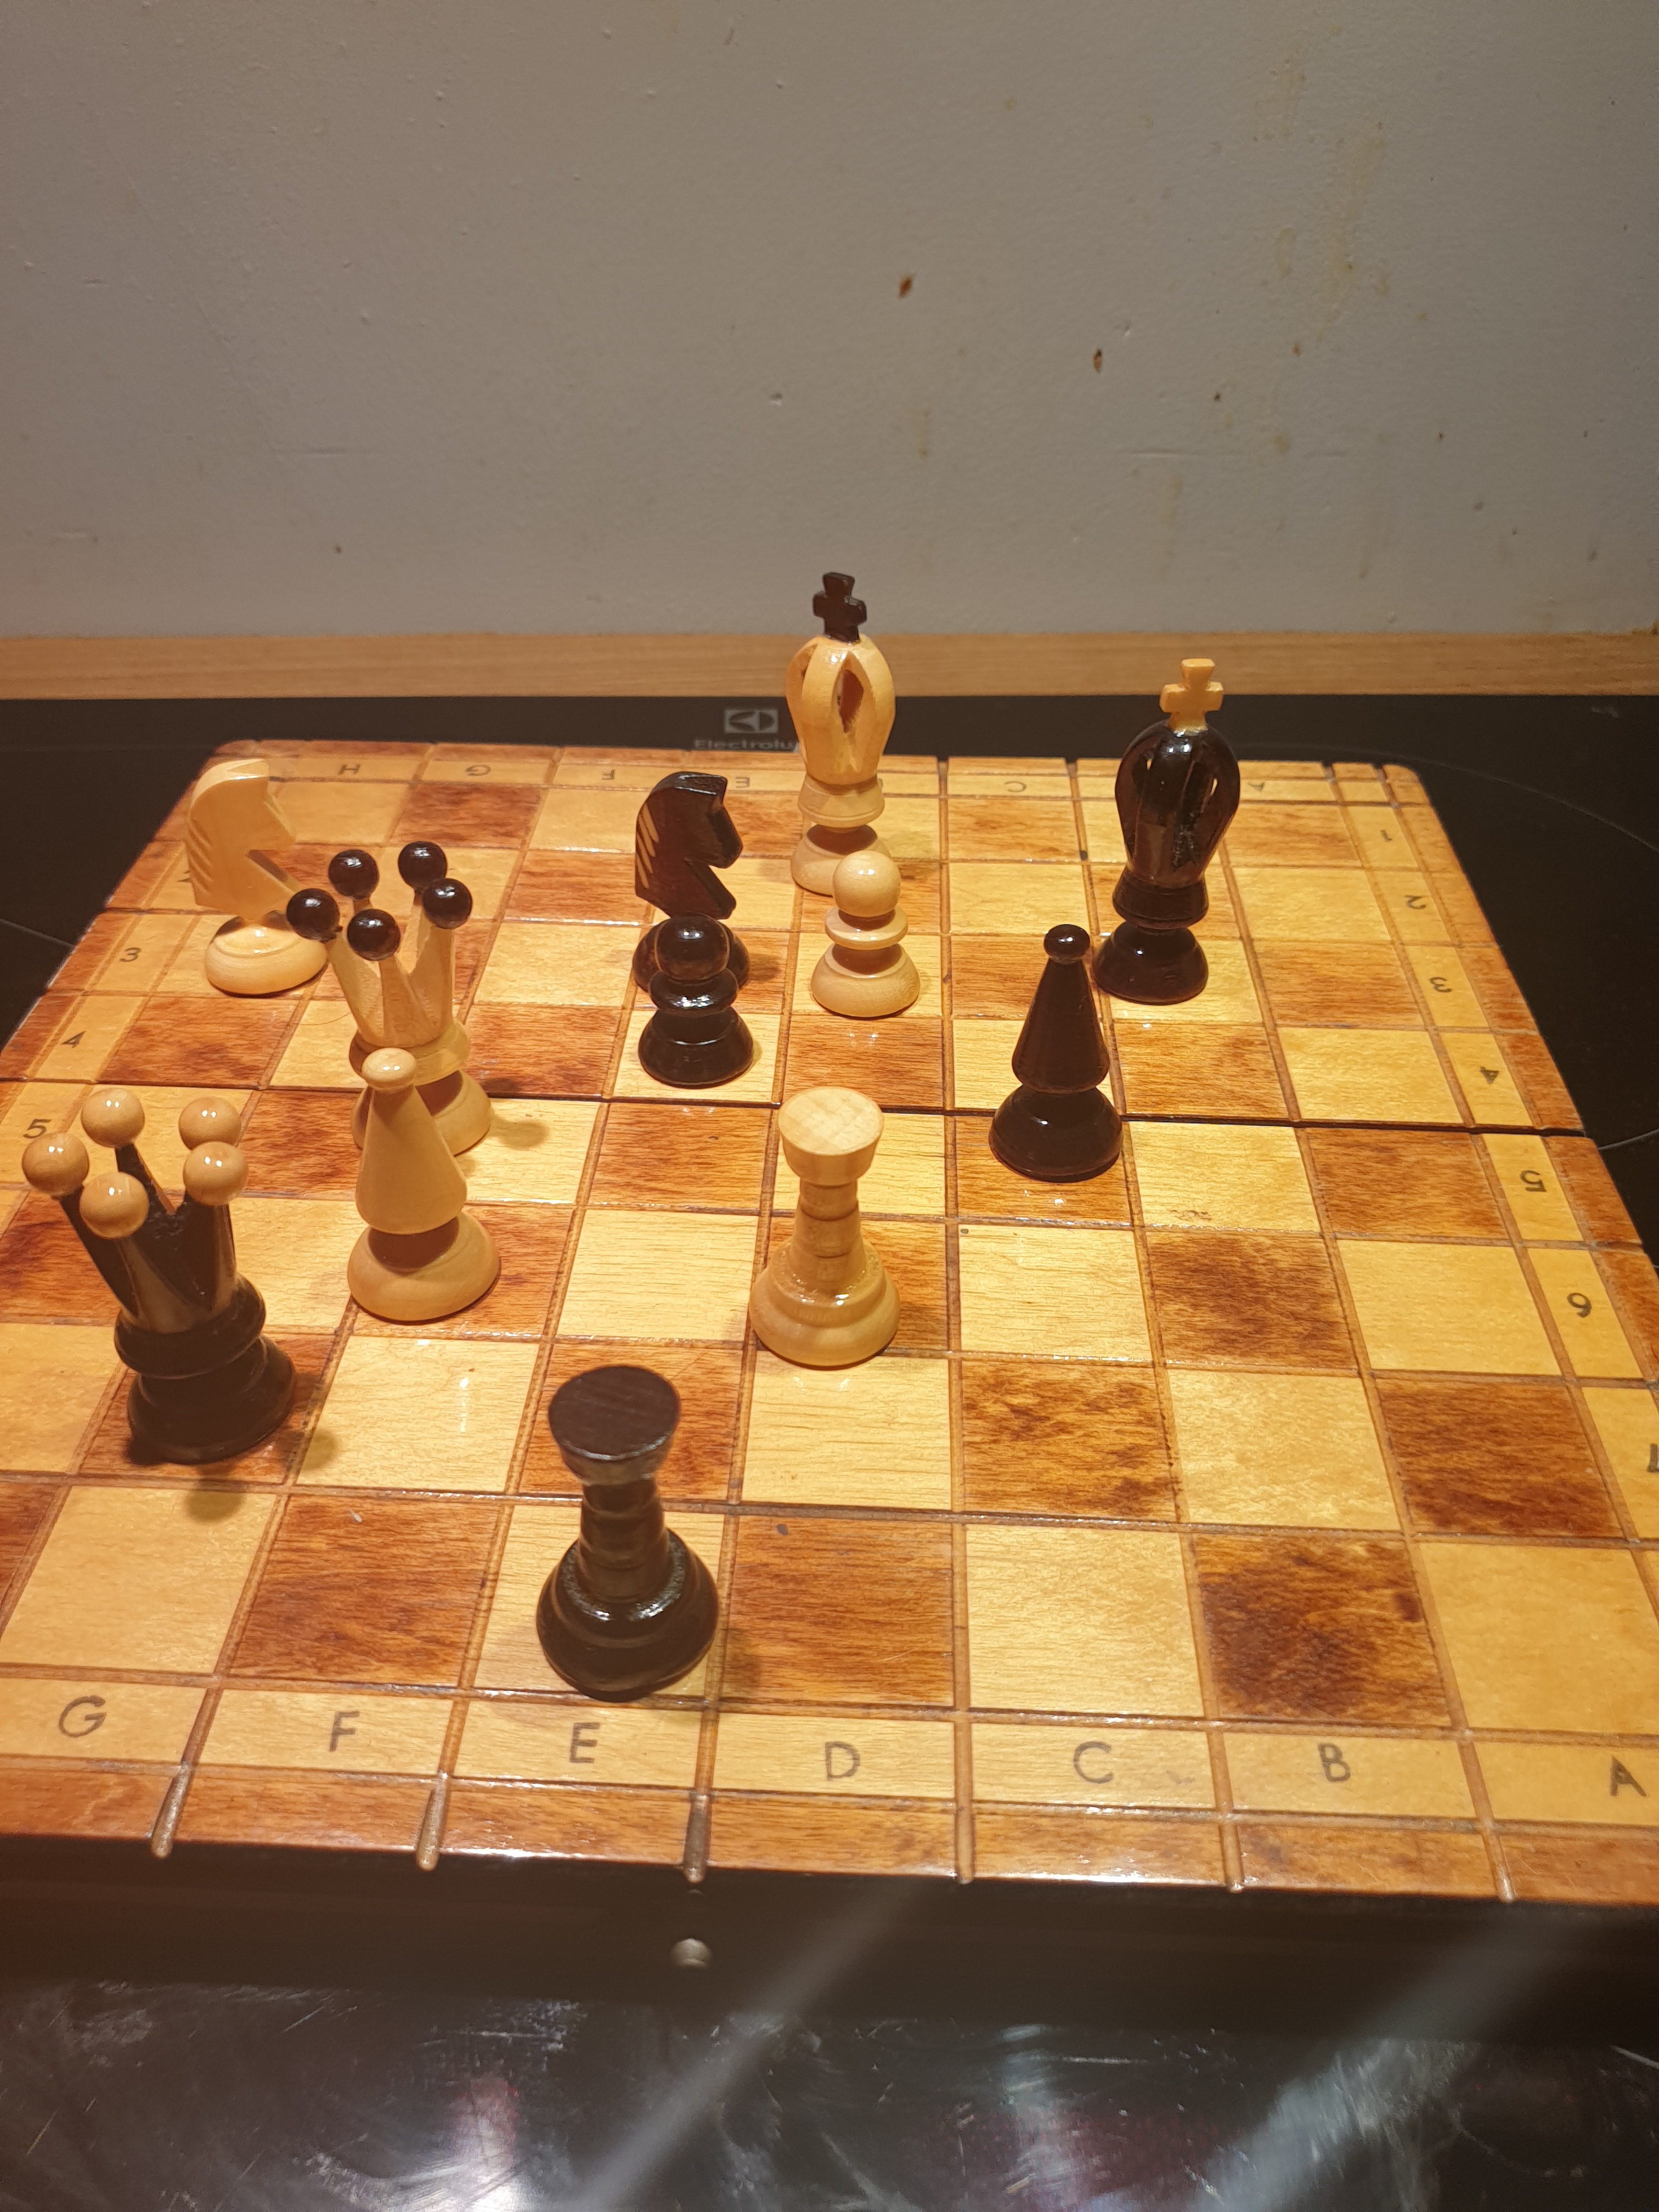bbishop: (981, 914, 1140, 1202)
bking: (1073, 631, 1274, 1021)
bknight: (624, 756, 762, 1008)
bpawn: (631, 904, 765, 1104)
bqueen: (21, 1069, 321, 1475)
brook: (526, 1360, 734, 1698)
wbishop: (331, 1043, 521, 1334)
wking: (774, 549, 913, 911)
wknight: (174, 745, 342, 1012)
wpawn: (800, 838, 934, 1042)
wqueen: (284, 817, 547, 1181)
wrook: (730, 1076, 922, 1379)
